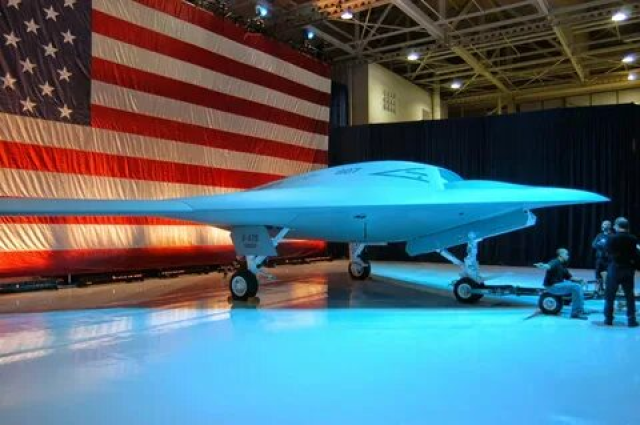military drone: (0, 159, 610, 303)
